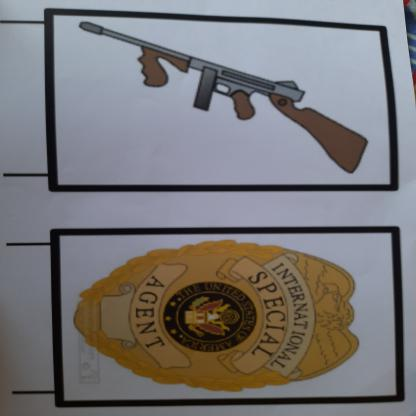Bootlegger: (63, 12, 388, 188)
G-man: (53, 235, 375, 402)
